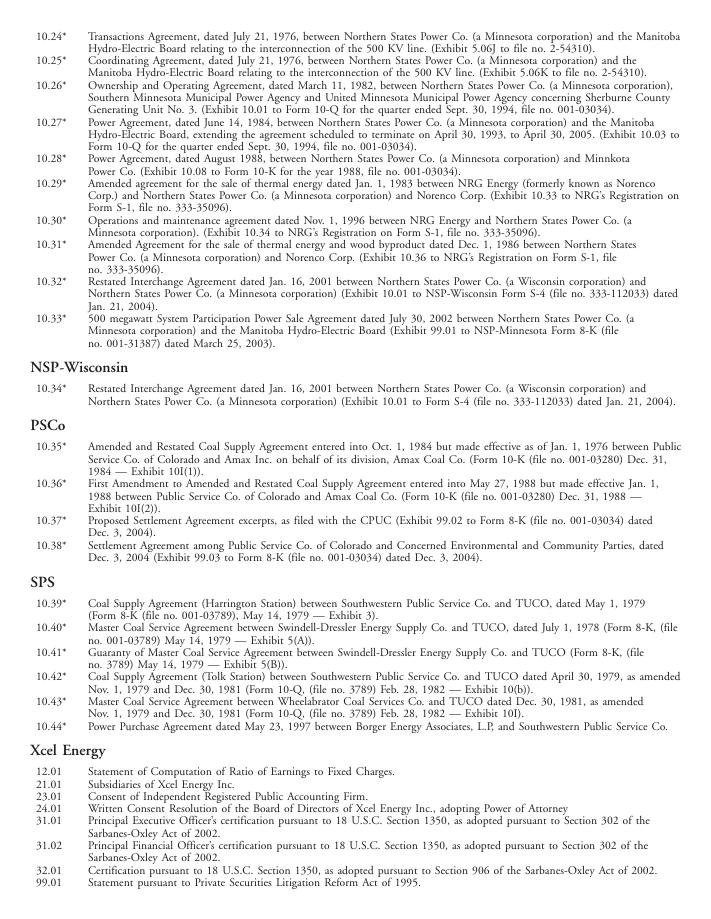table: (29, 28, 680, 887)
table column: (76, 28, 680, 887), (29, 28, 76, 887)
table projected row header: (29, 353, 680, 378), (29, 411, 680, 436), (29, 567, 680, 592), (29, 736, 680, 761)
table row: (29, 311, 680, 353), (29, 436, 680, 476), (29, 114, 680, 151), (29, 176, 680, 213), (29, 237, 680, 274), (29, 274, 680, 311), (29, 476, 680, 513), (29, 78, 680, 114), (29, 378, 680, 411), (29, 538, 680, 567), (29, 592, 680, 620), (29, 28, 680, 53), (29, 53, 680, 78), (29, 151, 680, 176), (29, 353, 680, 378), (29, 411, 680, 436), (29, 513, 680, 538), (29, 567, 680, 592), (29, 620, 680, 645), (29, 669, 680, 694), (29, 694, 680, 719), (29, 736, 680, 761), (29, 813, 680, 838), (29, 838, 680, 863), (29, 213, 680, 237), (29, 645, 680, 669), (29, 719, 680, 736), (29, 761, 680, 777), (29, 777, 680, 789), (29, 789, 680, 801), (29, 801, 680, 813), (29, 863, 680, 875), (29, 875, 680, 887)
